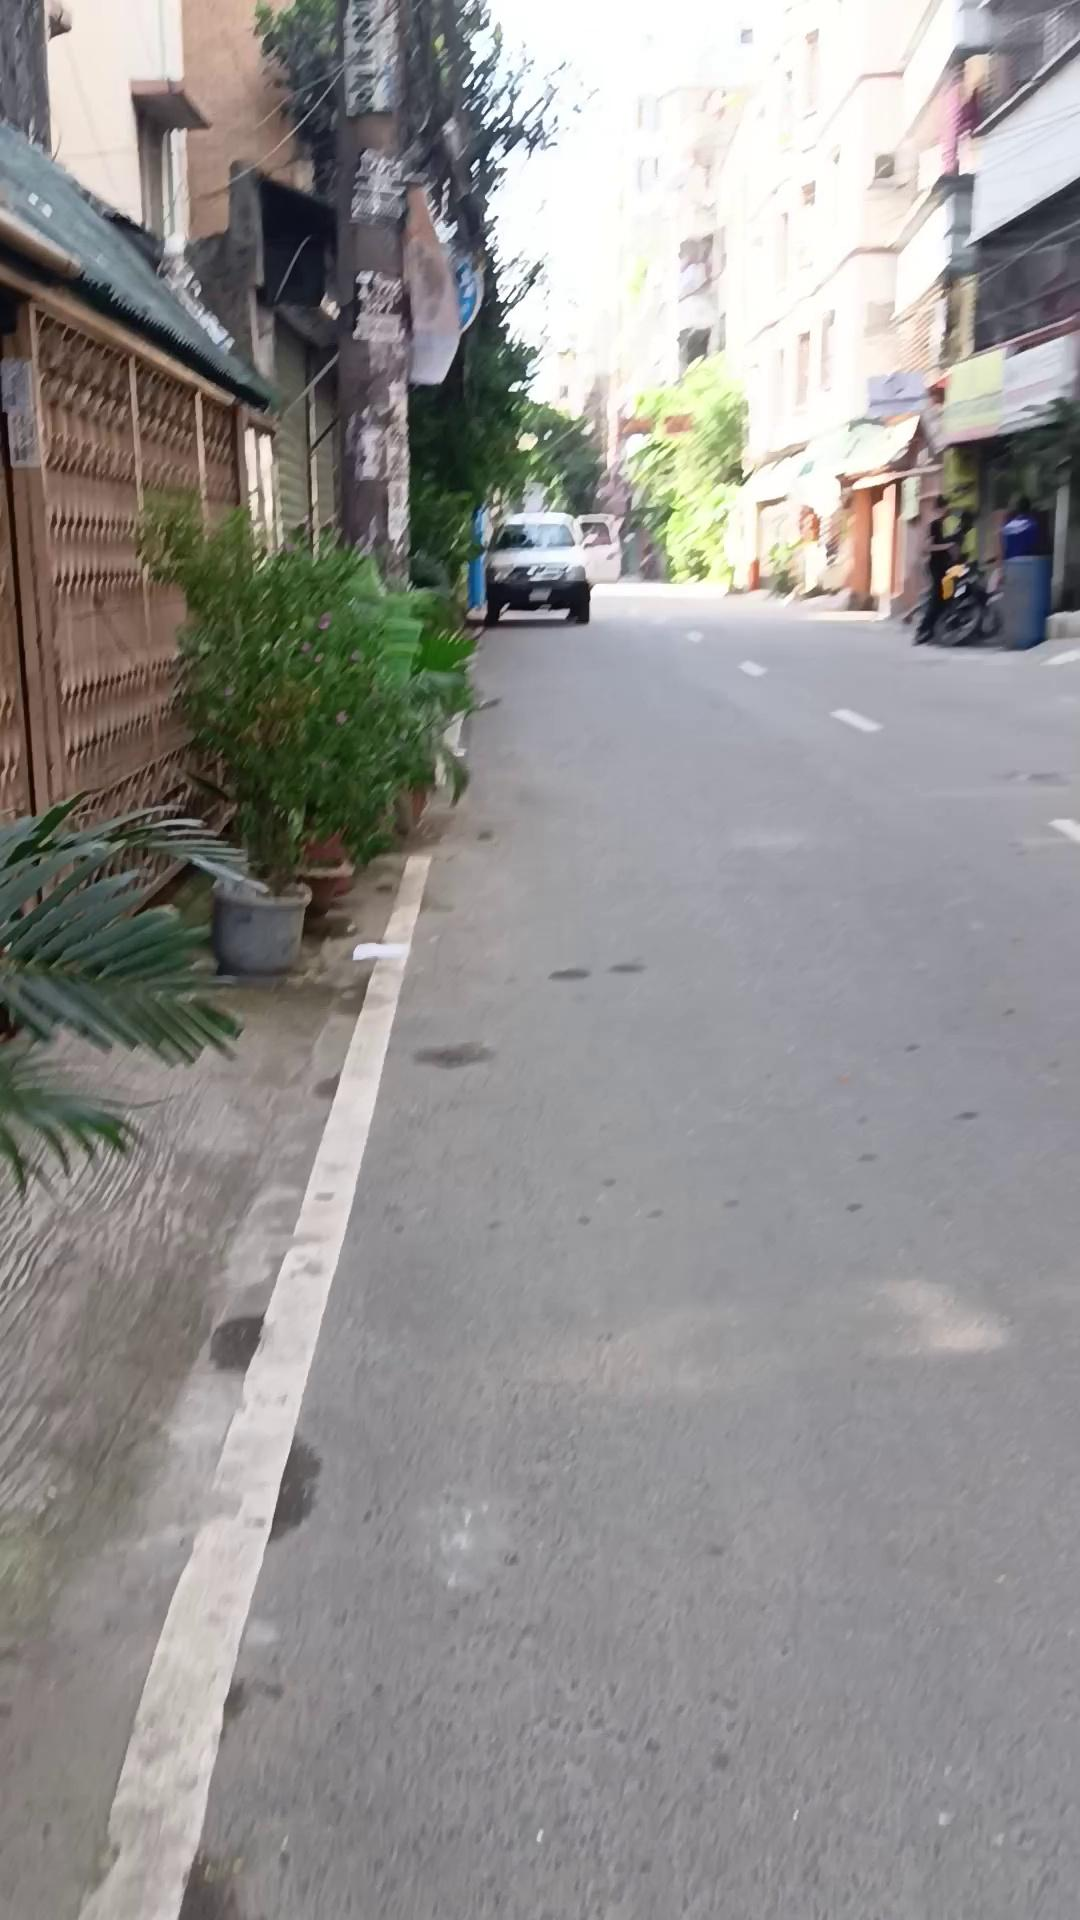Bollard: (482, 511, 591, 625)
Cat: (999, 553, 1051, 650)
Construction-barrier: (910, 551, 1005, 647)
Curb: (911, 494, 975, 645)
Fallen-tree: (130, 471, 489, 967)
Light-pole: (0, 785, 248, 1201)
